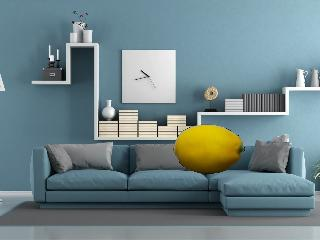lemon: (170, 122, 250, 176)
